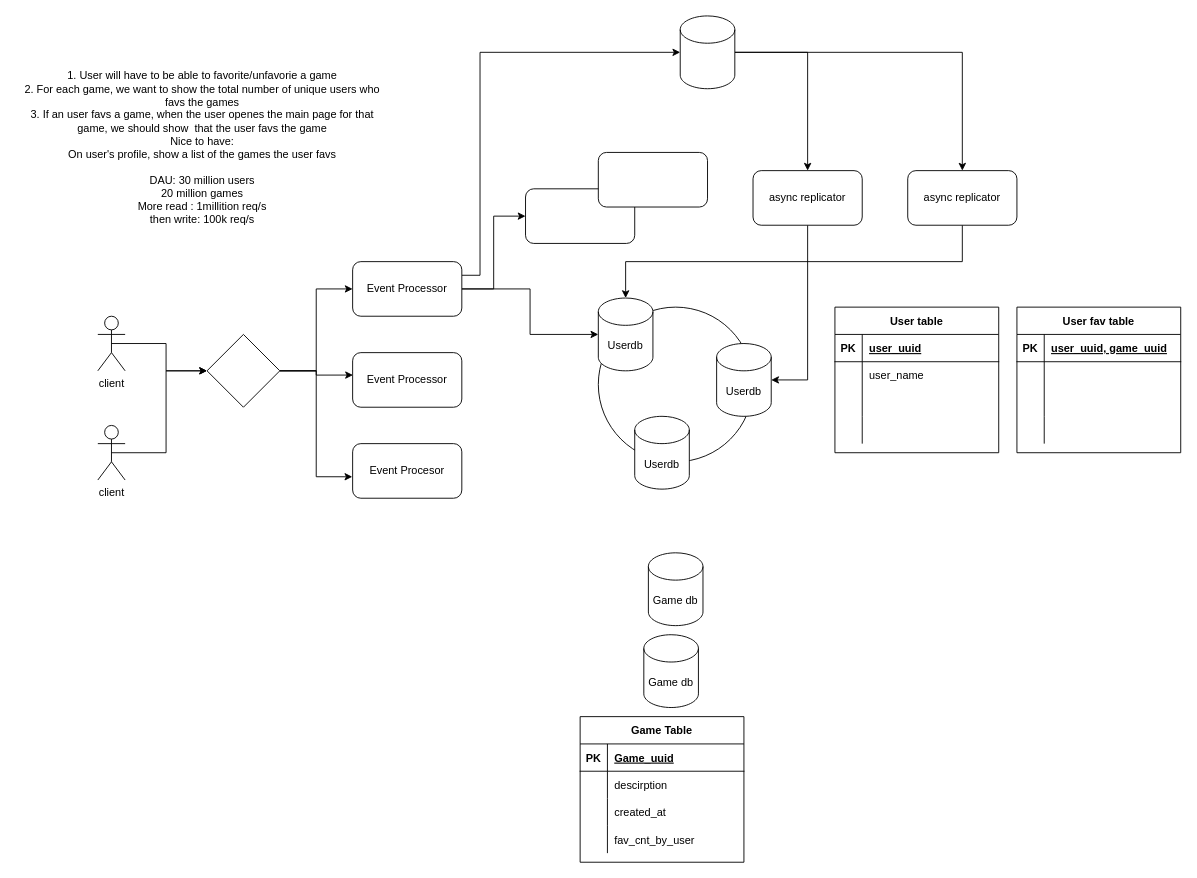
This 1197x878 diagram has some shape labels left out. The shapes that lost their labels are listed below. From the top down, each one's centre as x and y in pixels, then its label:
At (707,52): "Redis".
At (652,179): "slave".
At (580,215): "Db router(master)".
At (243,370): "LB (RR)".
